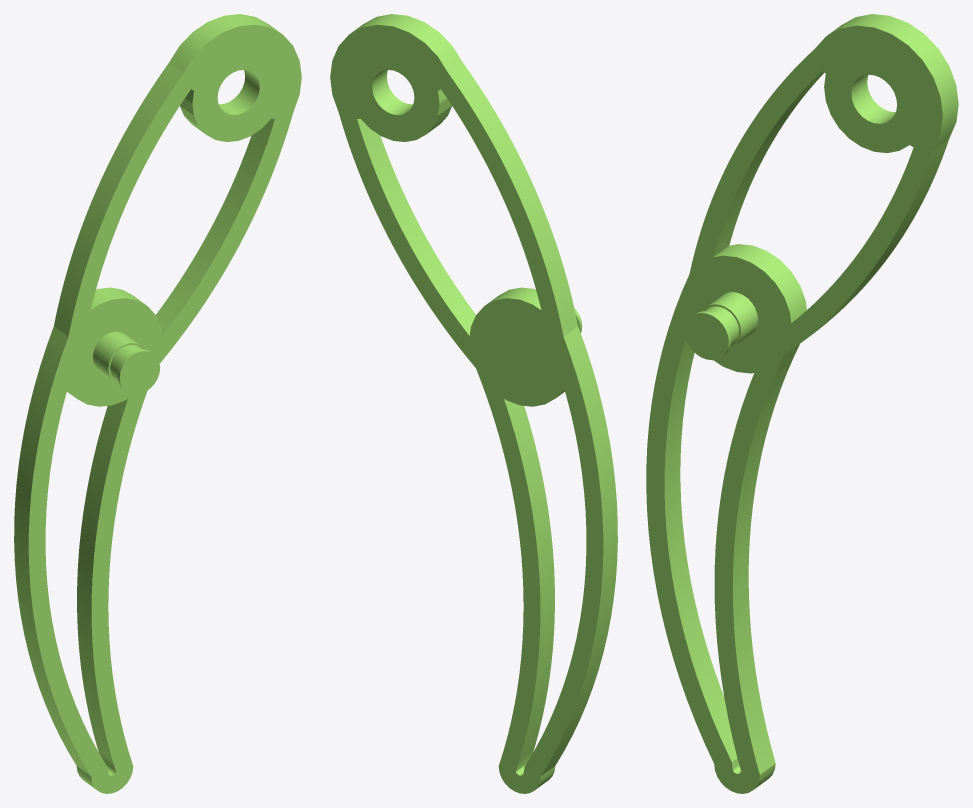
The model's file is RS_LegLeft_v1.obj.
3 renders of one model, left to right at view 1: azimuth 30°, elevation 25°; view 2: azimuth 150°, elevation 25°; view 3: azimuth 330°, elevation 25°, orthographic. The views are drawn at different scales.
Visible parts, largest first — view 1: Mesh1 Group2 Group1 Model, Mesh3 Group4 _____29_1 Group1 Model, Mesh2 Group3 _____29_1 Group1 Model; view 2: Mesh1 Group2 Group1 Model; view 3: Mesh1 Group2 Group1 Model, Mesh3 Group4 _____29_1 Group1 Model, Mesh2 Group3 _____29_1 Group1 Model.
Boxes of the visible parts, x1,y1,x2,y2 form: Mesh1 Group2 Group1 Model: (14, 14, 301, 793); Mesh3 Group4 _____29_1 Group1 Model: (117, 349, 160, 394); Mesh2 Group3 _____29_1 Group1 Model: (93, 331, 144, 383); Mesh1 Group2 Group1 Model: (330, 14, 617, 793); Mesh1 Group2 Group1 Model: (646, 14, 958, 793); Mesh3 Group4 _____29_1 Group1 Model: (685, 311, 731, 360); Mesh2 Group3 _____29_1 Group1 Model: (702, 292, 757, 348).
Bounding box in the file's own units: 32.41 × 83.48 × 8.7.
